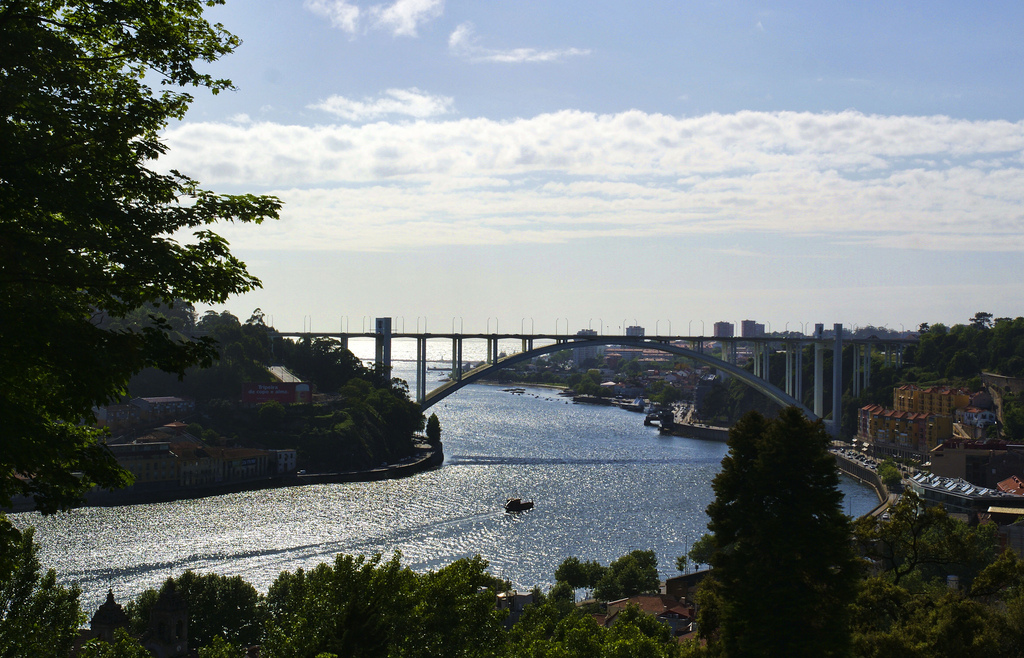arrabida: (279, 315, 928, 442)
